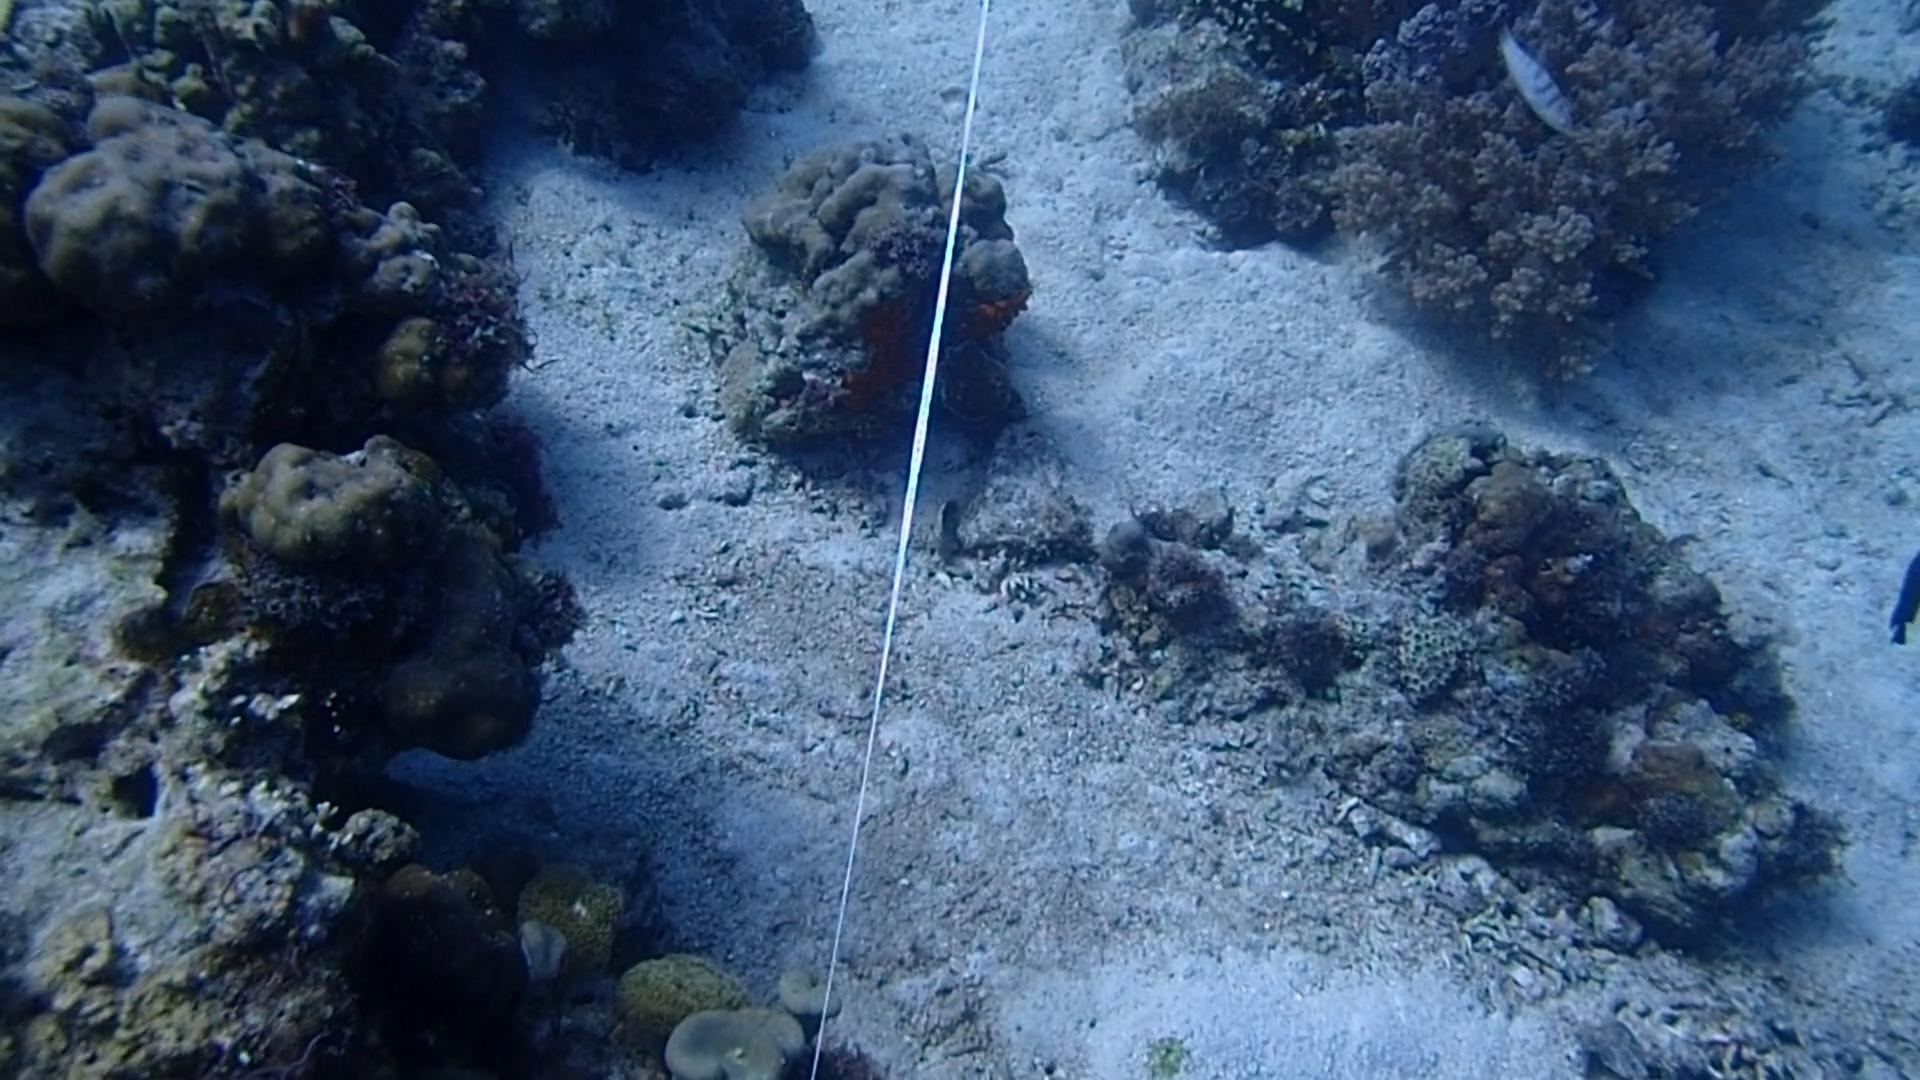Dark Fish: (1892, 537, 1920, 646)
Light Fish w Back Stripes: (1486, 16, 1589, 140)
